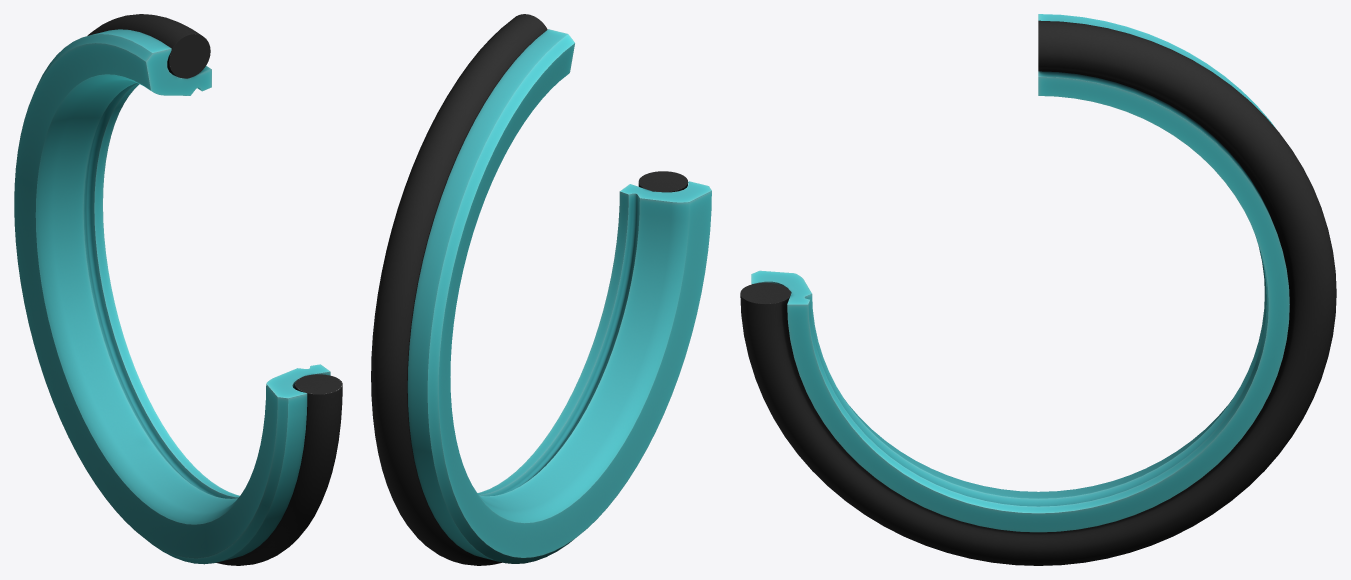
3 renders of one model, left to right at view 1: azimuth 30°, elevation 25°; view 2: azimuth 150°, elevation 25°; view 3: azimuth 270°, elevation 25°, orthographic. The views are drawn at different scales.
Parts seen in each view (by area): view 1: Turcon® VL Seal® II_3/4th 1, Turcon® VL Seal® II_3/4th 2; view 2: Turcon® VL Seal® II_3/4th 1, Turcon® VL Seal® II_3/4th 2; view 3: Turcon® VL Seal® II_3/4th 2, Turcon® VL Seal® II_3/4th 1.
Boxes of the visible parts, <box> form: Turcon® VL Seal® II_3/4th 1: <box>14,29,330,564</box>; Turcon® VL Seal® II_3/4th 2: <box>87,14,342,565</box>; Turcon® VL Seal® II_3/4th 1: <box>407,29,711,563</box>; Turcon® VL Seal® II_3/4th 2: <box>371,14,688,565</box>; Turcon® VL Seal® II_3/4th 2: <box>740,20,1336,565</box>; Turcon® VL Seal® II_3/4th 1: <box>751,14,1289,532</box>.
Size of what is drawn, in the model's own units: 0.0534 by 0.3958 by 0.3958.
2 materials, 2 textured.
